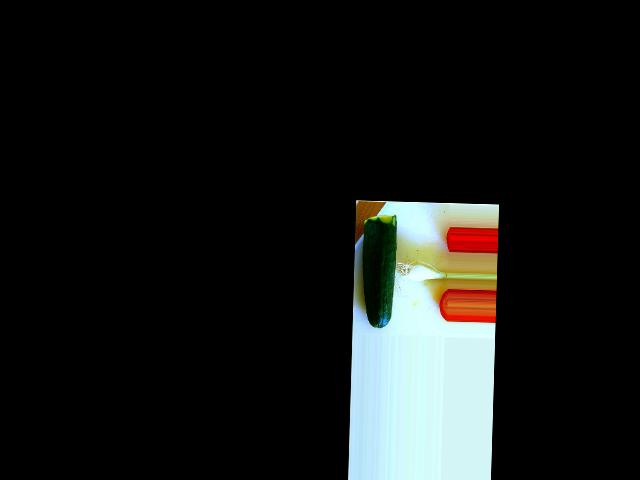cucumber: (360, 214, 396, 329)
